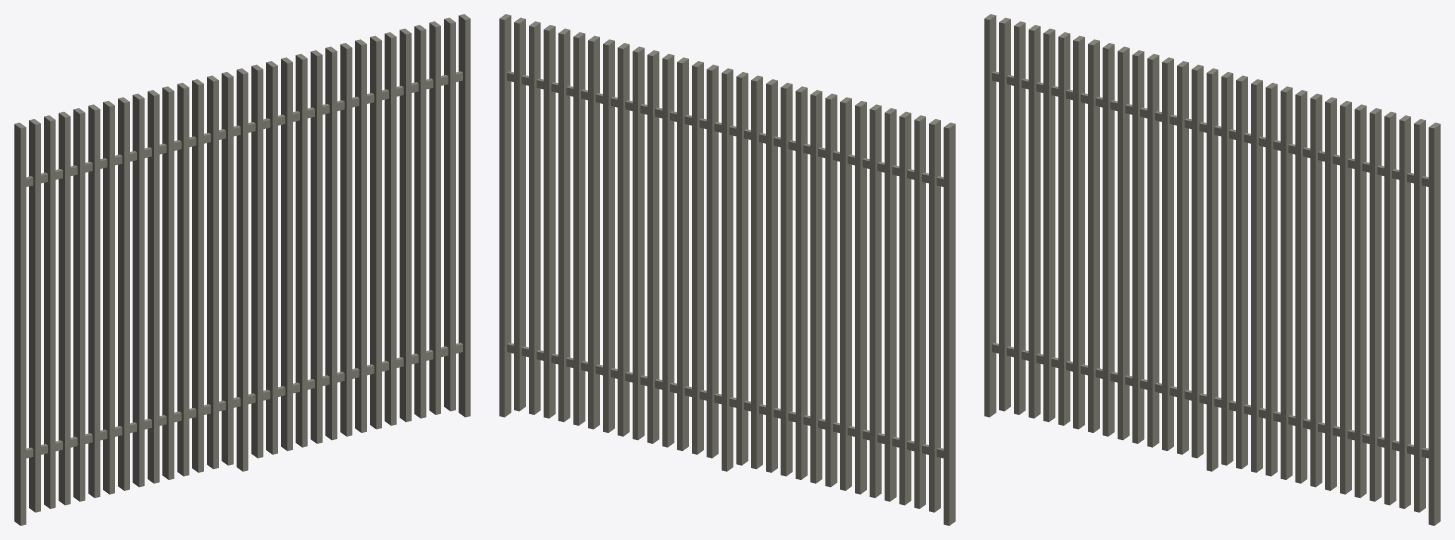
The model's file is sg-reversible-s50_h2000_soutiencollar.fbx.
3 renders of one model, left to right at view 1: azimuth 30°, elevation 25°; view 2: azimuth 150°, elevation 25°; view 3: azimuth 330°, elevation 25°, orthographic.
Visible parts, largest first — view 1: sg-reversible-s50_h2000_stain_2span; view 2: sg-reversible-s50_h2000_stain_2span; view 3: sg-reversible-s50_h2000_stain_2span.
Part boxes in pixels (x1,y1,x2,y2): sg-reversible-s50_h2000_stain_2span: (14, 14, 470, 525); sg-reversible-s50_h2000_stain_2span: (499, 14, 955, 525); sg-reversible-s50_h2000_stain_2span: (984, 14, 1440, 525).
Size of the model in its own units: 243 by 205 by 6.
Materials: 1 (1 with a texture image).
